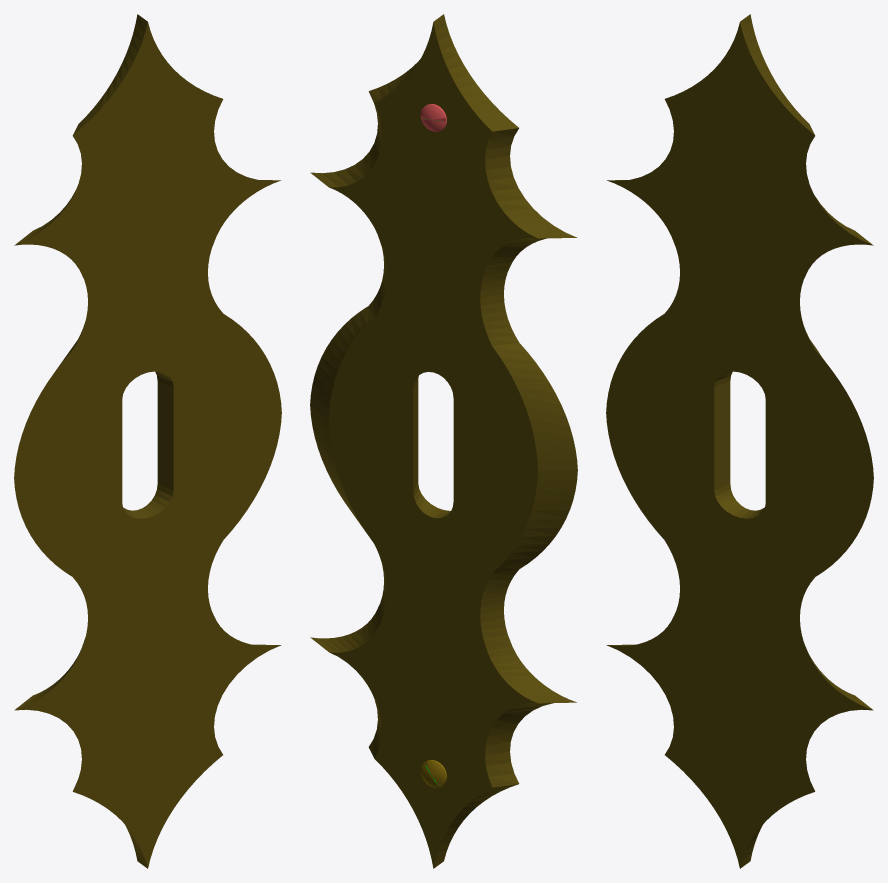
File: newserratura.obj
3 renders of one model, left to right at view 1: azimuth 30°, elevation 25°; view 2: azimuth 150°, elevation 25°; view 3: azimuth 330°, elevation 25°, orthographic.
Parts seen in each view (by area): view 1: Group_002; view 2: Group_002, Group_003, Group_008; view 3: Group_002.
Part boxes in pixels (box(x1,y1,x2,y2)): Group_002: box(14, 14, 281, 868); Group_002: box(310, 14, 577, 868); Group_003: box(420, 104, 446, 131); Group_008: box(420, 760, 446, 787); Group_002: box(606, 14, 873, 868).
Bounding box in the file's own units: 1.15 × 3.49 × 0.1007.
